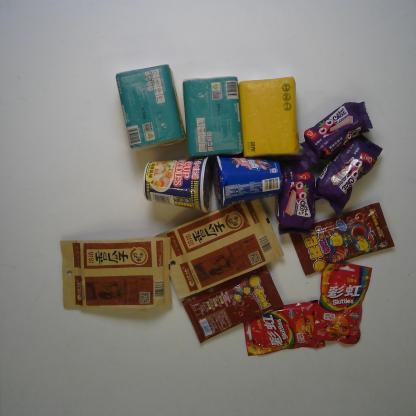Candy: (181, 263, 285, 344), (288, 201, 396, 277), (313, 259, 374, 345), (242, 300, 326, 358)
Dessert: (312, 132, 384, 214), (298, 99, 374, 164), (212, 154, 285, 210), (274, 152, 317, 236)
Dried Food: (153, 198, 285, 301), (57, 235, 173, 313)
Instant Noodles: (141, 154, 214, 215)
Tissue: (114, 63, 186, 151), (180, 75, 244, 158), (238, 75, 301, 157)
